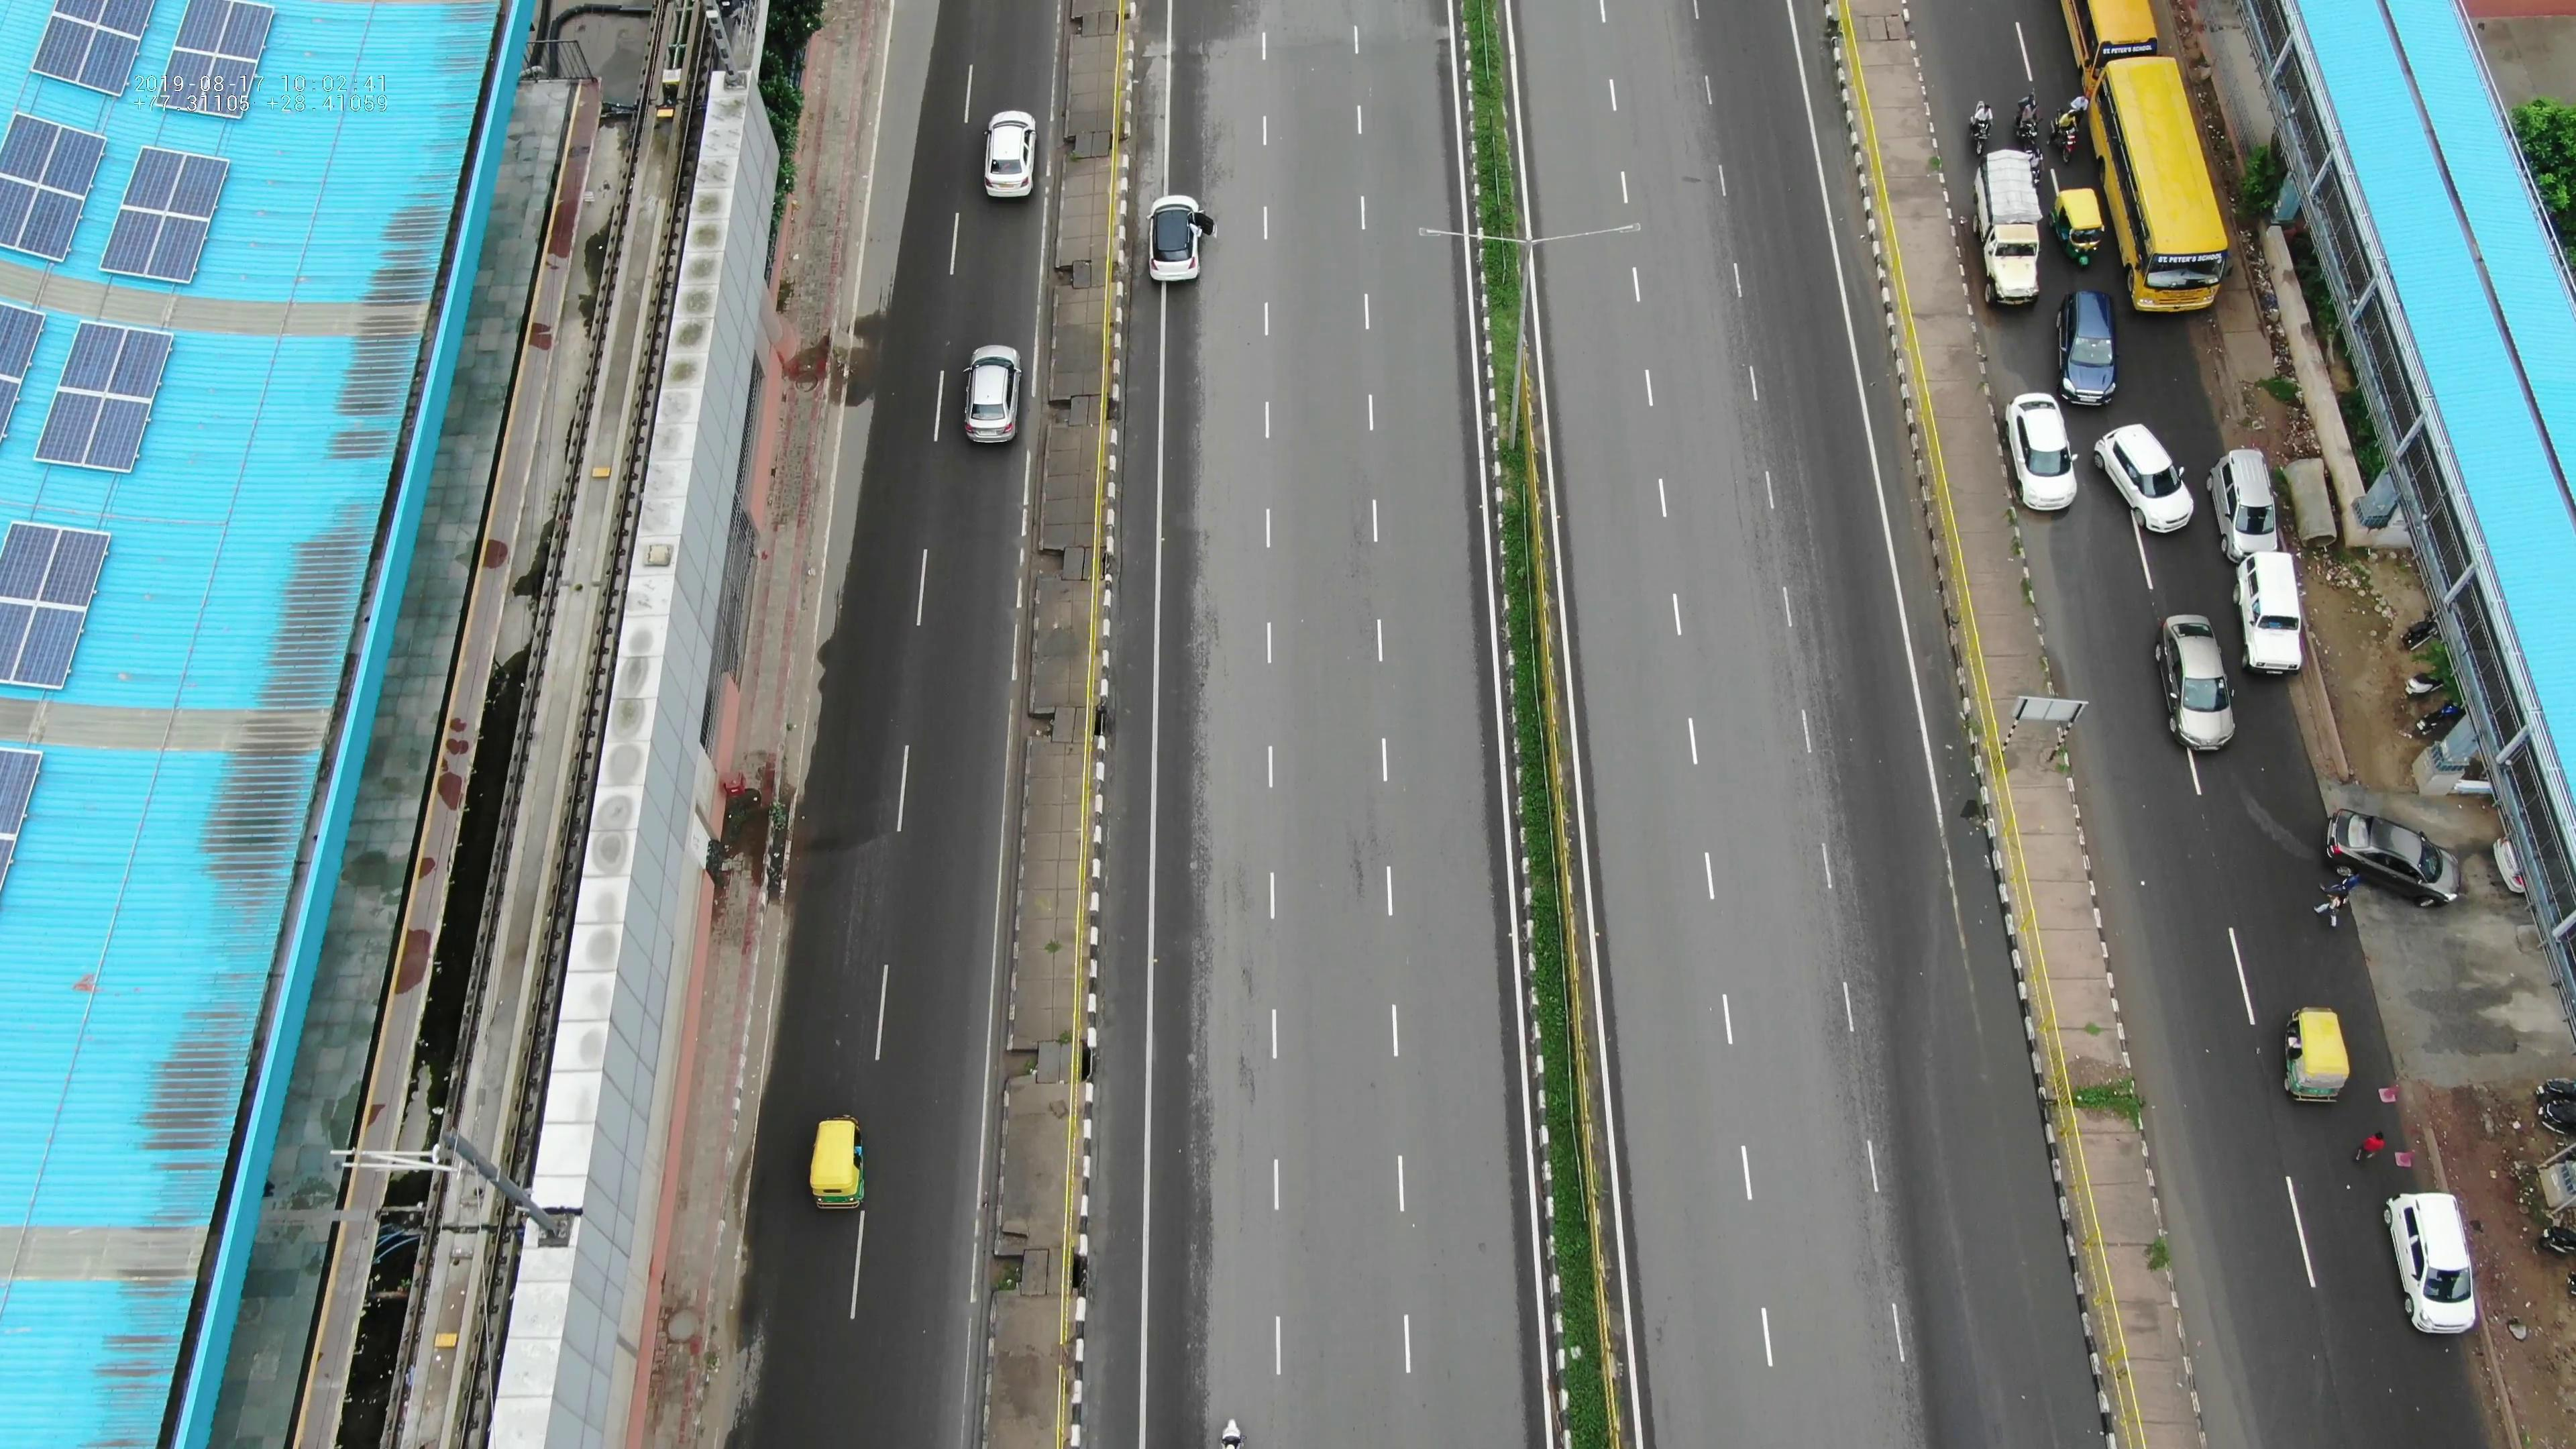Waterlogging: (1918, 821, 2104, 1410)
